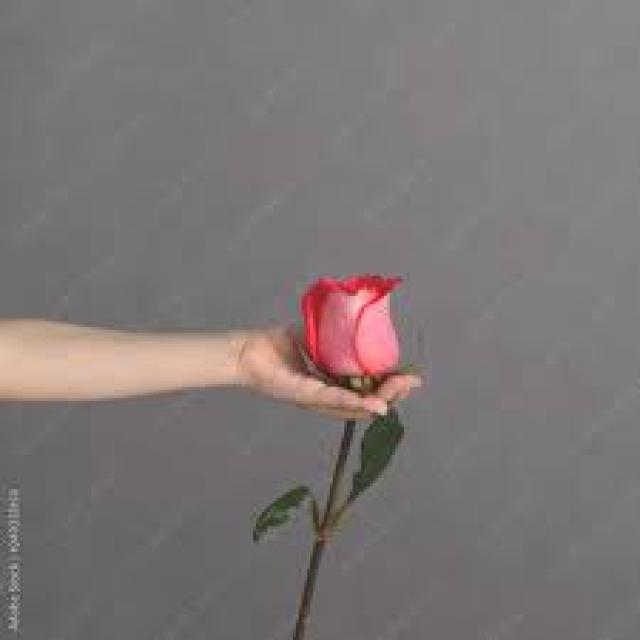rose: (286, 260, 424, 421)
